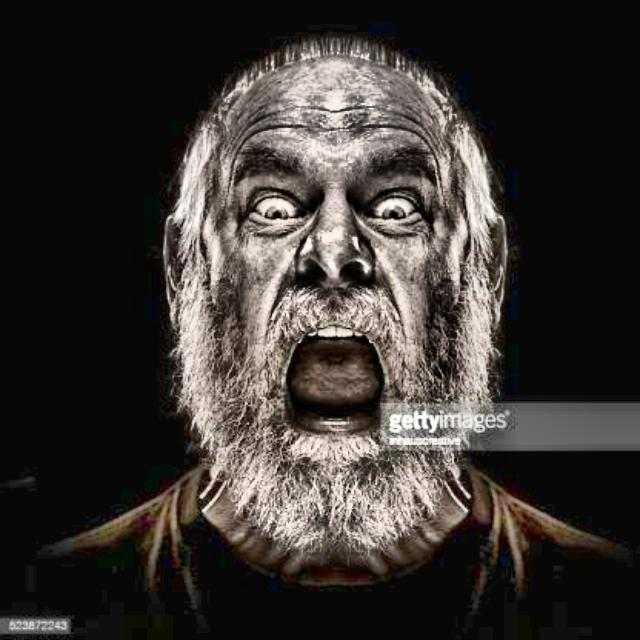fear: (138, 29, 522, 572)
